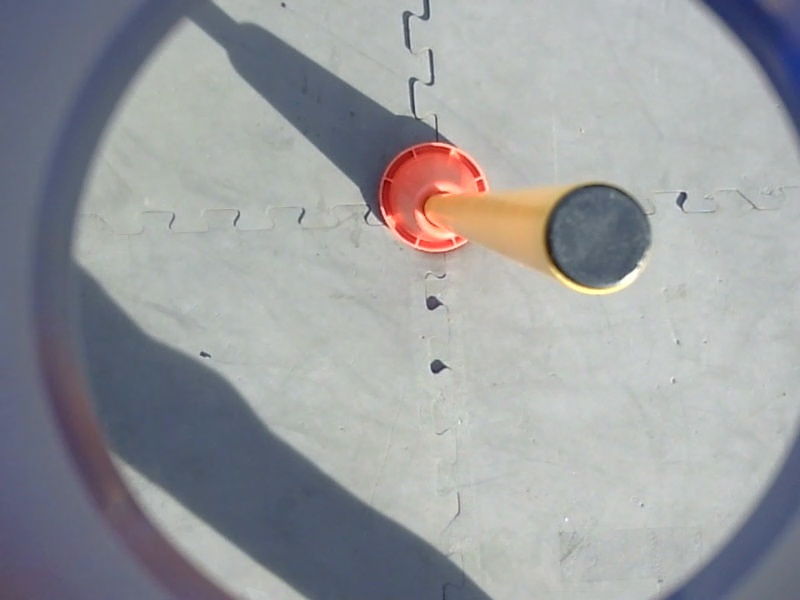tip: (537, 177, 658, 300)
